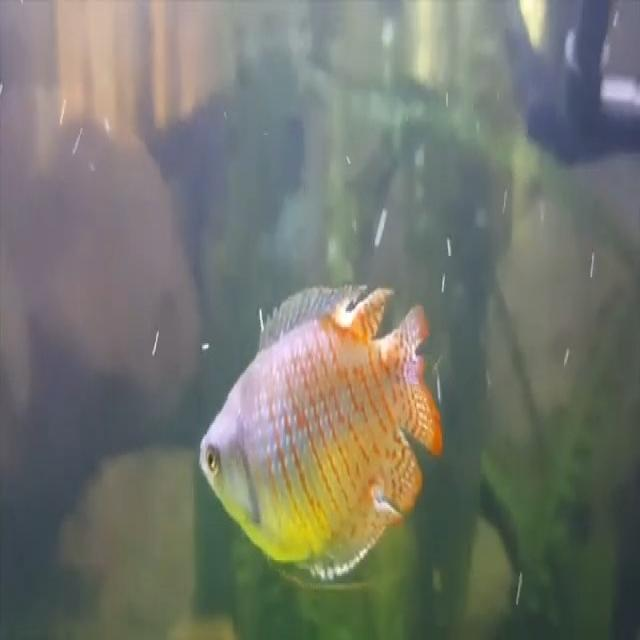fish: (198, 280, 449, 586)
